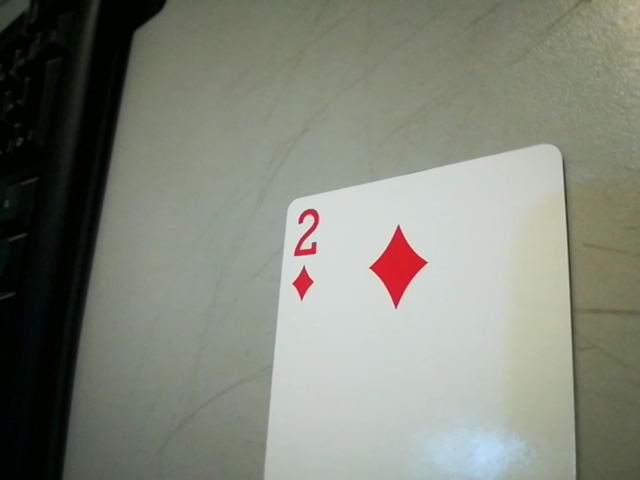fk 2: (279, 200, 333, 308)
